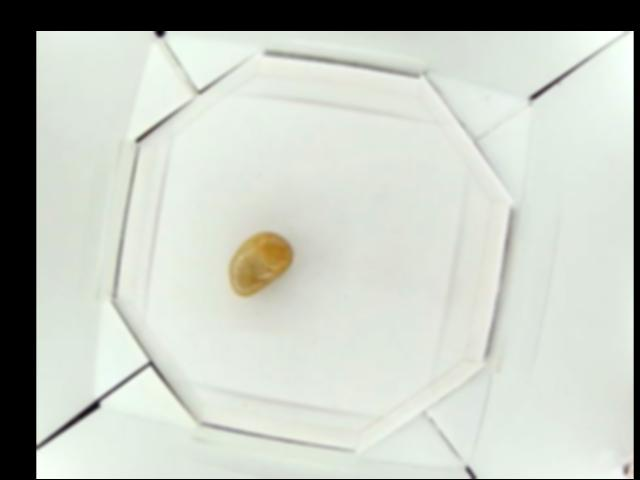Pebble: (226, 229, 293, 299)
